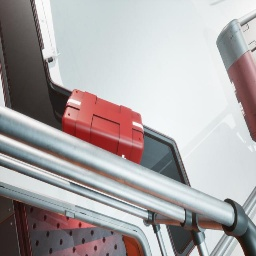FirstAidBox ,: (62, 89, 144, 165)
NitrogenTank ,: (216, 18, 256, 142)
